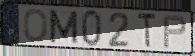0: (81, 9, 103, 48)
2: (107, 11, 132, 49)
M: (48, 9, 80, 45)
O: (23, 8, 49, 43)
P: (162, 15, 188, 50)
T: (137, 11, 158, 50)
